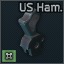M1911A1 Wilson Ultralight skeletonized hammer: (0, 0, 64, 64)
